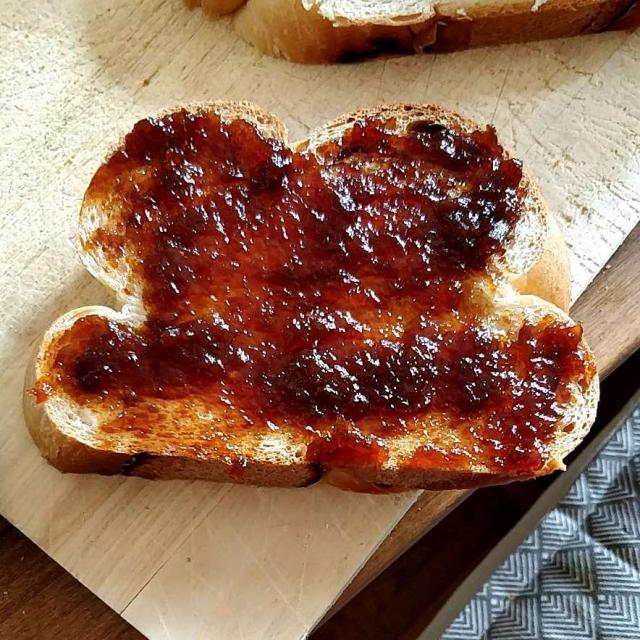braided-white-loaf: (29, 113, 595, 492)
jam: (65, 125, 559, 450)
